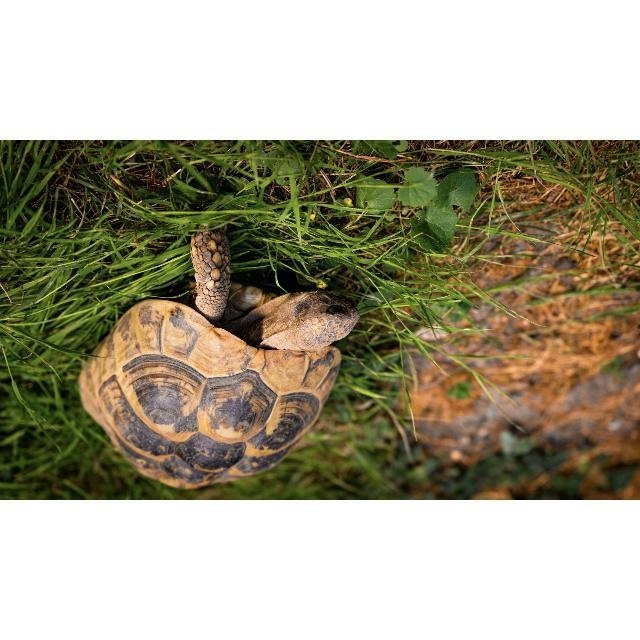turtle: (76, 225, 360, 490)
